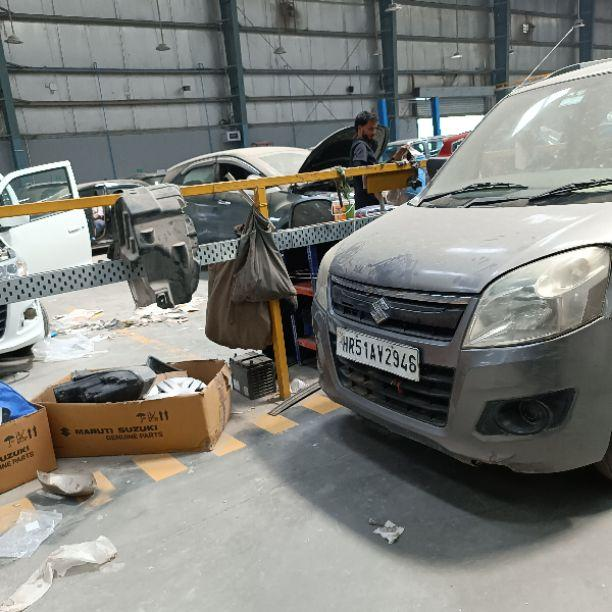license_plate: (334, 324, 421, 382)
